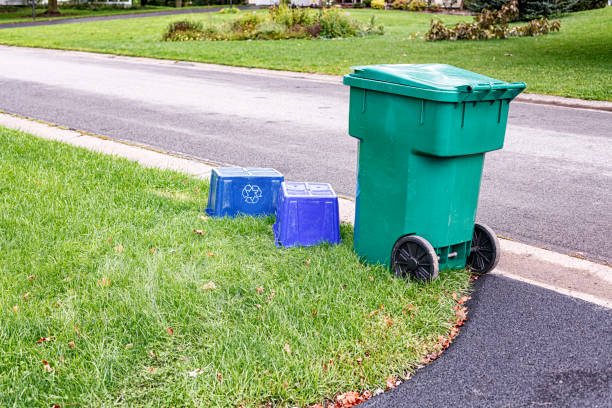empty: (343, 62, 528, 283)
